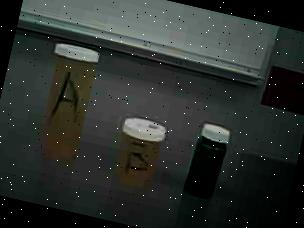Bottle A: (25, 37, 116, 168)
Bottle B: (105, 110, 172, 199)
Bottle C: (170, 115, 249, 210)
